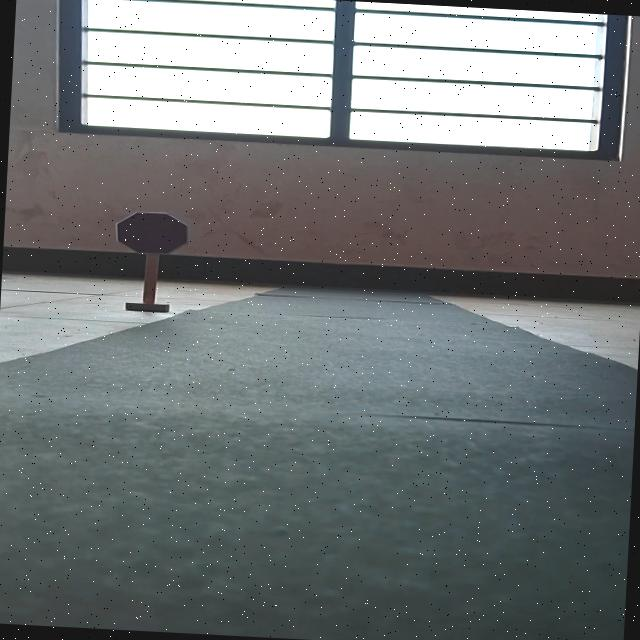Stop: (114, 210, 190, 256)
